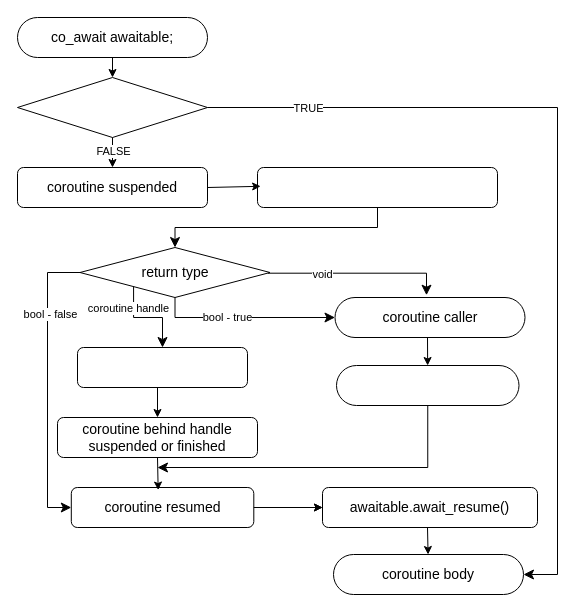
Some shapes in this 585 by 612 pixel diagram are drawn without their labels. The shapes that lost their labels are listed below. From the top down, each one's box as (x1, y1, x2, y2) in pixels, then its label:
(16, 76, 208, 138): awaitable.await_ready();
(256, 166, 498, 208): awaitable.await_suspend(handle);
(76, 346, 248, 388): handle.resume()
(336, 364, 519, 406): caller calls resume()
